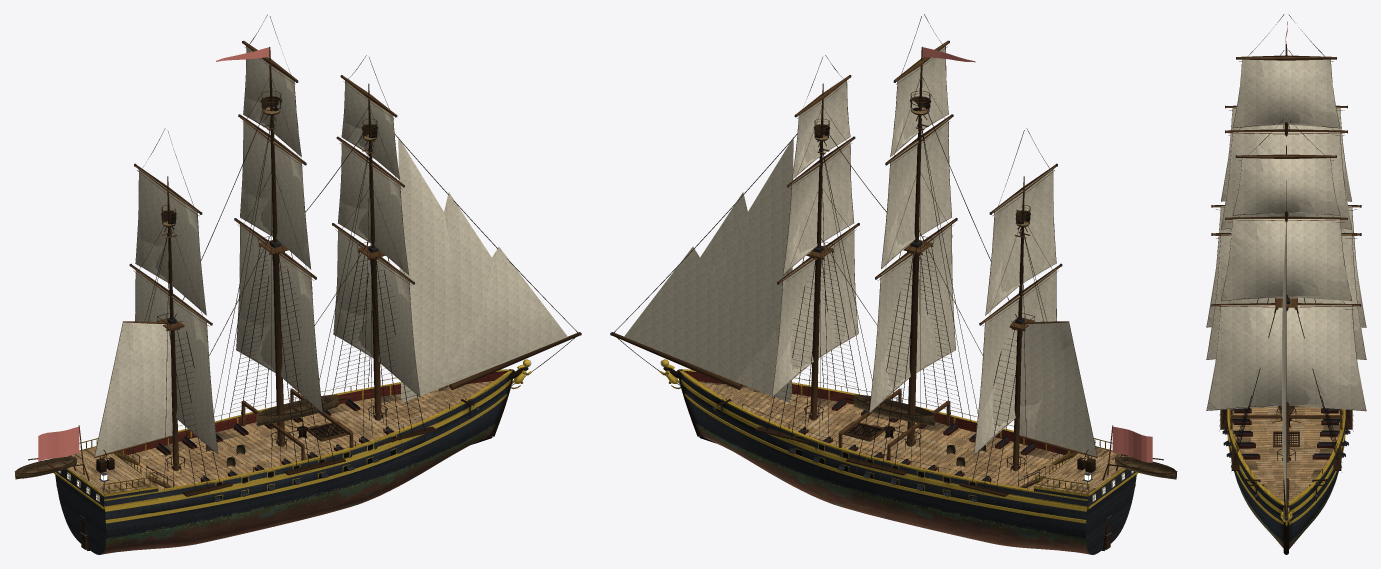
File: corvette.glb
The picture shows the model from 3 angles, left to right: view 1: azimuth 30°, elevation 25°; view 2: azimuth 150°, elevation 25°; view 3: azimuth 270°, elevation 25°; orthographic projection. The views are drawn at different scales.
Visible parts, largest first — view 1: LOD0_Body, LOD0_Wood, LOD0_Jib, LOD2_m1_SquareSail, LOD2_m0_SquareSail, LOD2_Body, LOD2_m2_SquareSail, LOD0_m2_AftSail, LOD2_Wood, LOD1_Wood, LOD0_m1_SquareSail, LOD0_m0_SquareSail (+13 smaller); view 2: LOD0_Body, LOD0_Wood, LOD2_Jib, LOD2_m1_SquareSail, LOD2_m0_SquareSail, LOD2_Body, LOD2_m2_SquareSail, LOD2_m2_AftSail, LOD2_Wood, LOD1_Wood, LOD0_m1_SquareSail, LOD0_m0_SquareSail (+13 smaller); view 3: LOD0_m0_SquareSail, LOD0_m1_SquareSail, LOD2_Body, LOD0_Wood, LOD0_Body, LOD1_m0_SquareSail, LOD2_m0_SquareSail, LOD1_m1_SquareSail, LOD2_m1_SquareSail, LOD0_Jib, LOD0_m2_SquareSail, LOD2_m0_SquareYards (+11 smaller).
Boxes of the visible parts, x1,y1,x2,y2 form: LOD0_Body: [54, 96, 531, 554]; LOD0_Wood: [14, 47, 581, 554]; LOD0_Jib: [398, 137, 559, 403]; LOD2_m1_SquareSail: [236, 46, 322, 412]; LOD2_m0_SquareSail: [334, 85, 418, 394]; LOD2_Body: [67, 370, 508, 553]; LOD2_m2_SquareSail: [135, 177, 217, 454]; LOD0_m2_AftSail: [95, 323, 172, 456]; LOD2_Wood: [59, 122, 576, 553]; LOD1_Wood: [55, 96, 578, 553]; LOD0_m1_SquareSail: [236, 75, 313, 372]; LOD0_m0_SquareSail: [333, 81, 419, 393]; LOD0_Body: [660, 97, 1137, 554]; LOD0_Wood: [610, 46, 1177, 554]; LOD2_Jib: [624, 137, 793, 400]; LOD2_m1_SquareSail: [870, 50, 955, 407]; LOD2_m0_SquareSail: [773, 91, 856, 390]; LOD2_Body: [683, 370, 1125, 553]; LOD2_m2_SquareSail: [975, 178, 1056, 447]; LOD2_m2_AftSail: [1020, 323, 1096, 455]; LOD2_Wood: [614, 119, 1132, 553]; LOD1_Wood: [613, 96, 1136, 553]; LOD0_m1_SquareSail: [869, 47, 952, 412]; LOD0_m0_SquareSail: [772, 81, 857, 396]; LOD0_m0_SquareSail: [1207, 158, 1357, 410]; LOD0_m1_SquareSail: [1207, 59, 1358, 359]; LOD2_Body: [1232, 406, 1339, 547]; LOD0_Wood: [1220, 44, 1352, 554]; LOD0_Body: [1219, 408, 1353, 548]; LOD1_m0_SquareSail: [1212, 158, 1358, 407]; LOD2_m0_SquareSail: [1207, 158, 1365, 410]; LOD1_m1_SquareSail: [1212, 59, 1359, 329]; LOD2_m1_SquareSail: [1207, 59, 1365, 359]; LOD0_Jib: [1282, 221, 1286, 479]; LOD0_m2_SquareSail: [1207, 114, 1358, 326]; LOD2_m0_SquareYards: [1213, 155, 1359, 307].
Size of the model in its own units: 55.95 by 47.51 by 14.88.
5 materials, 3 textured.
